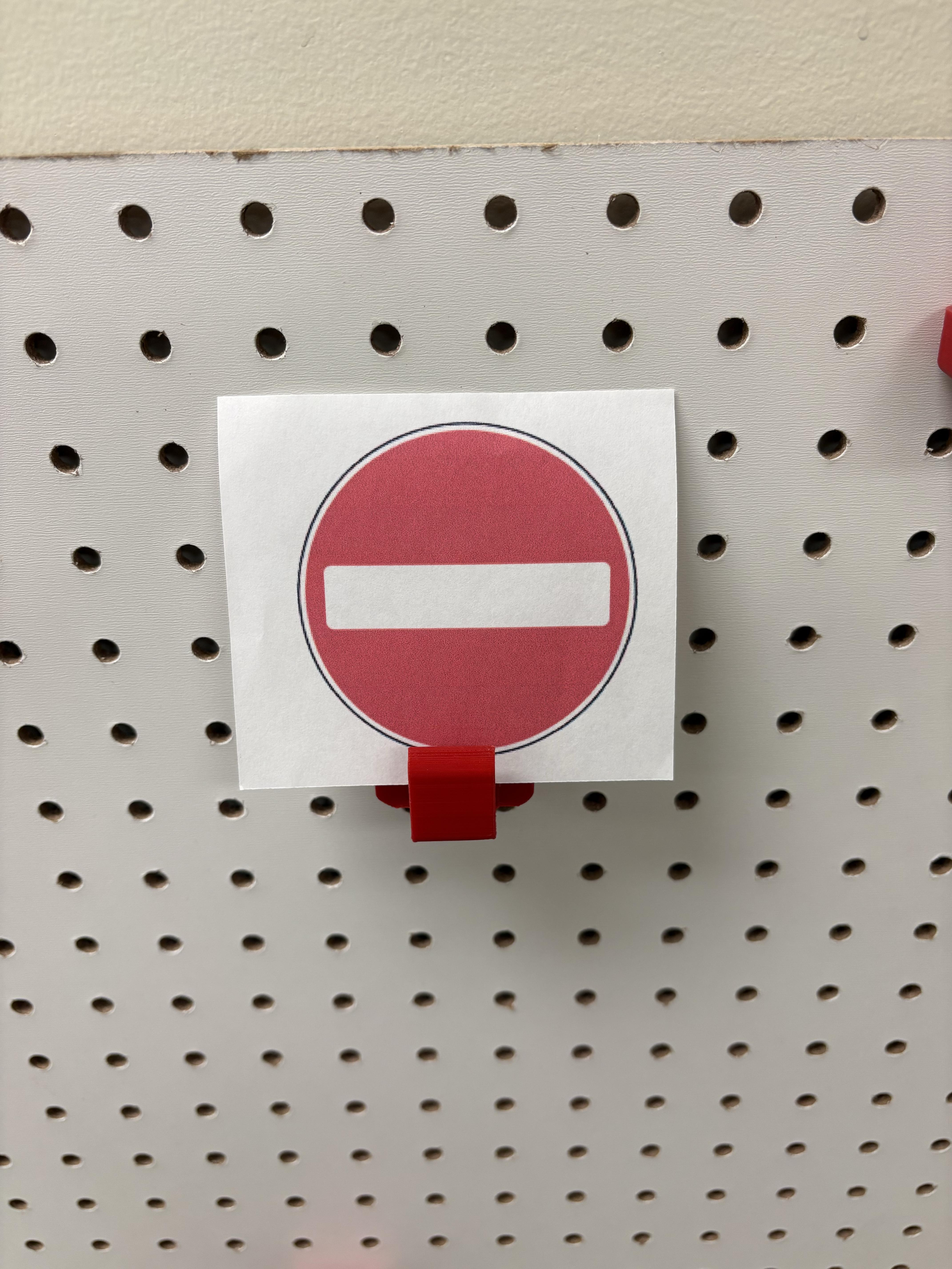No Entry: (161, 517, 507, 1061)
